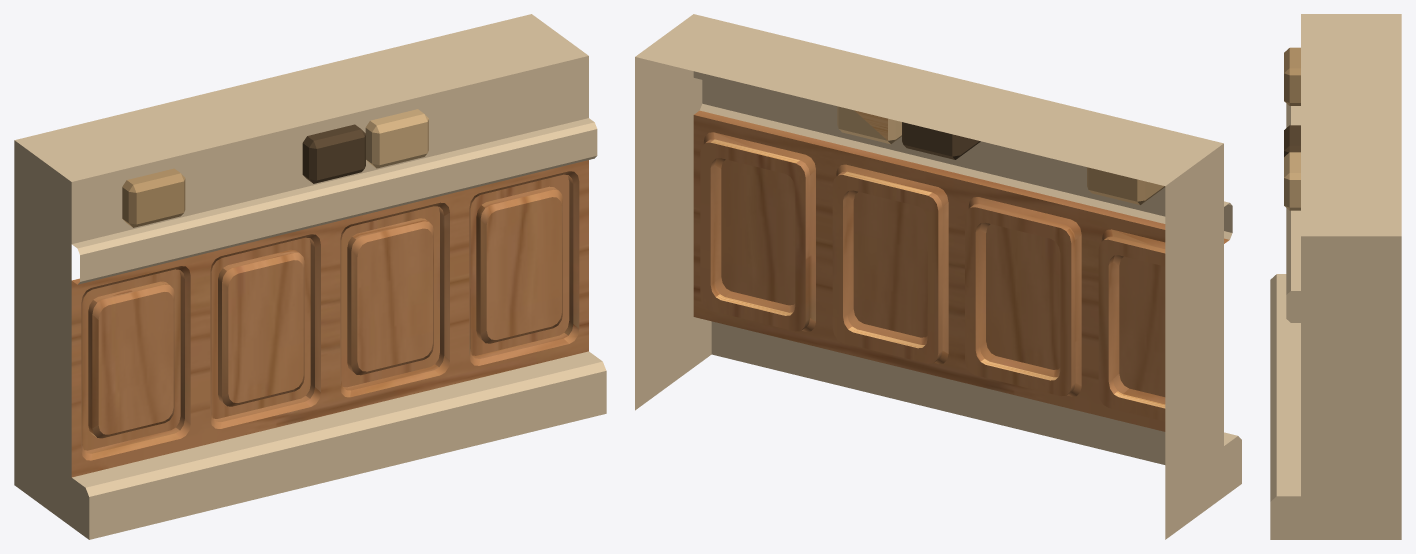
The model's file is Wall half.fbx.
3 views of the same model, side by side, from view 1: azimuth 30°, elevation 25°; view 2: azimuth 150°, elevation 25°; view 3: azimuth 270°, elevation 25° (orthographic). The views are drawn at different scales.
Parts seen in each view (by area): view 1: Wall half; view 2: Wall half; view 3: Wall half.
Boxes of the visible parts, box(x1,y1,x2,y2) form: Wall half: box(14, 14, 606, 539); Wall half: box(635, 14, 1241, 539); Wall half: box(1270, 14, 1401, 539).
Size of the model in its own units: 400 by 255 by 99.99.
